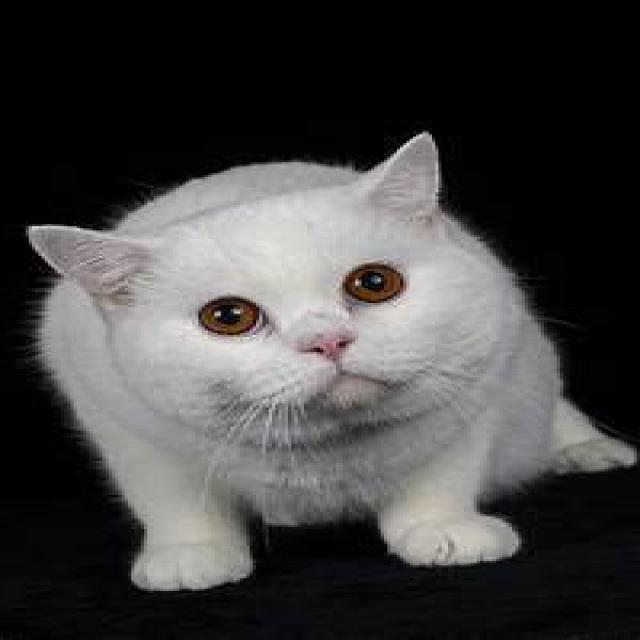animal: (39, 135, 638, 588)
